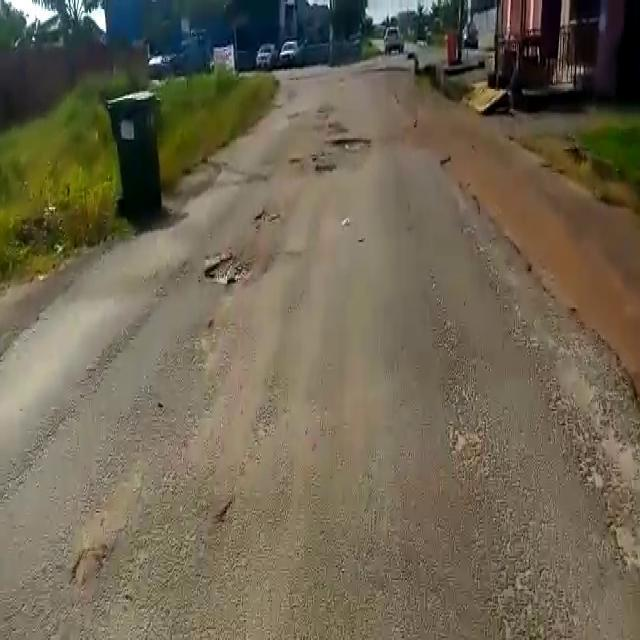pothole: (200, 250, 265, 290), (331, 132, 374, 150), (313, 165, 338, 176)
